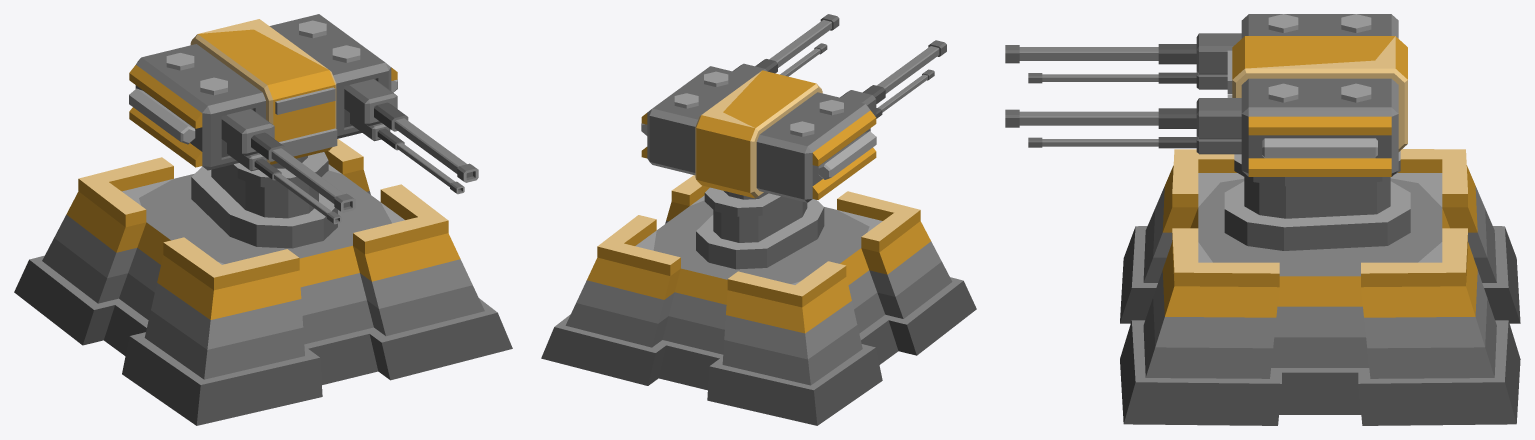
Rendered from tower_rapid_yellow_2.fbx.
3 renders of one model, left to right at view 1: azimuth 30°, elevation 25°; view 2: azimuth 150°, elevation 25°; view 3: azimuth 270°, elevation 25°, orthographic. The views are drawn at different scales.
Parts seen in each view (by area): view 1: tower_rapid_yellow_2, top_rapid_yellow_2; view 2: tower_rapid_yellow_2, top_rapid_yellow_2; view 3: tower_rapid_yellow_2, top_rapid_yellow_2.
Boxes of the visible parts, x1,y1,x2,y2 form: tower_rapid_yellow_2: (14, 139, 512, 425); top_rapid_yellow_2: (129, 14, 478, 248); tower_rapid_yellow_2: (541, 175, 976, 425); top_rapid_yellow_2: (641, 14, 946, 269); tower_rapid_yellow_2: (1120, 149, 1520, 425); top_rapid_yellow_2: (1005, 14, 1410, 250).
Bounding box in the file's own units: 171 × 136 × 219.
